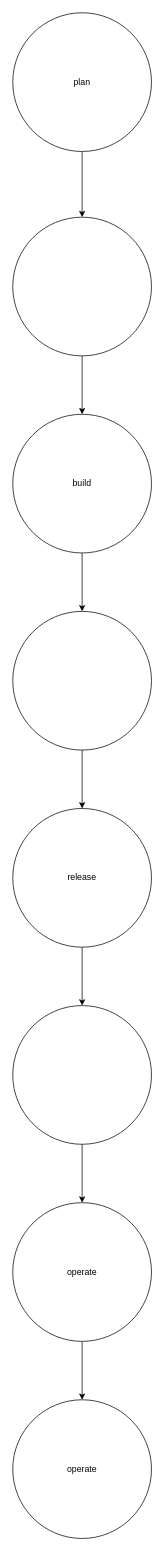
The diagram is 164 pixels wide and 1551 high, and some of its shapes have lost their labels. The box of each missing label's shape, as (x1, y1, x2, y2) in pixels:
deploy: (12, 1005, 151, 1144)
develop: (12, 216, 151, 356)
test: (12, 611, 151, 750)
